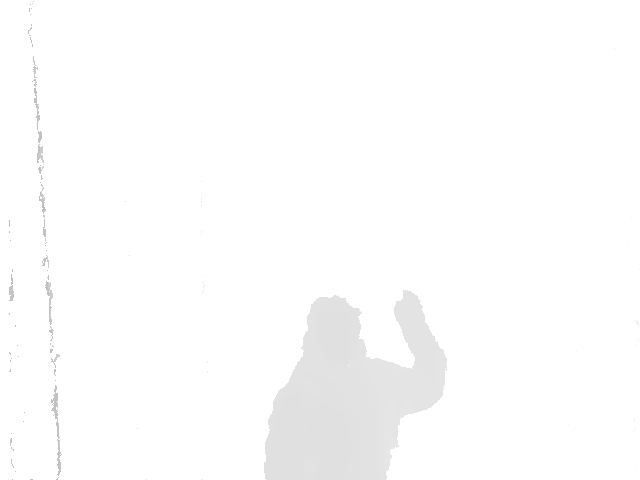hand: (392, 290, 428, 340)
head: (299, 297, 368, 362)
person: (261, 291, 451, 480)
